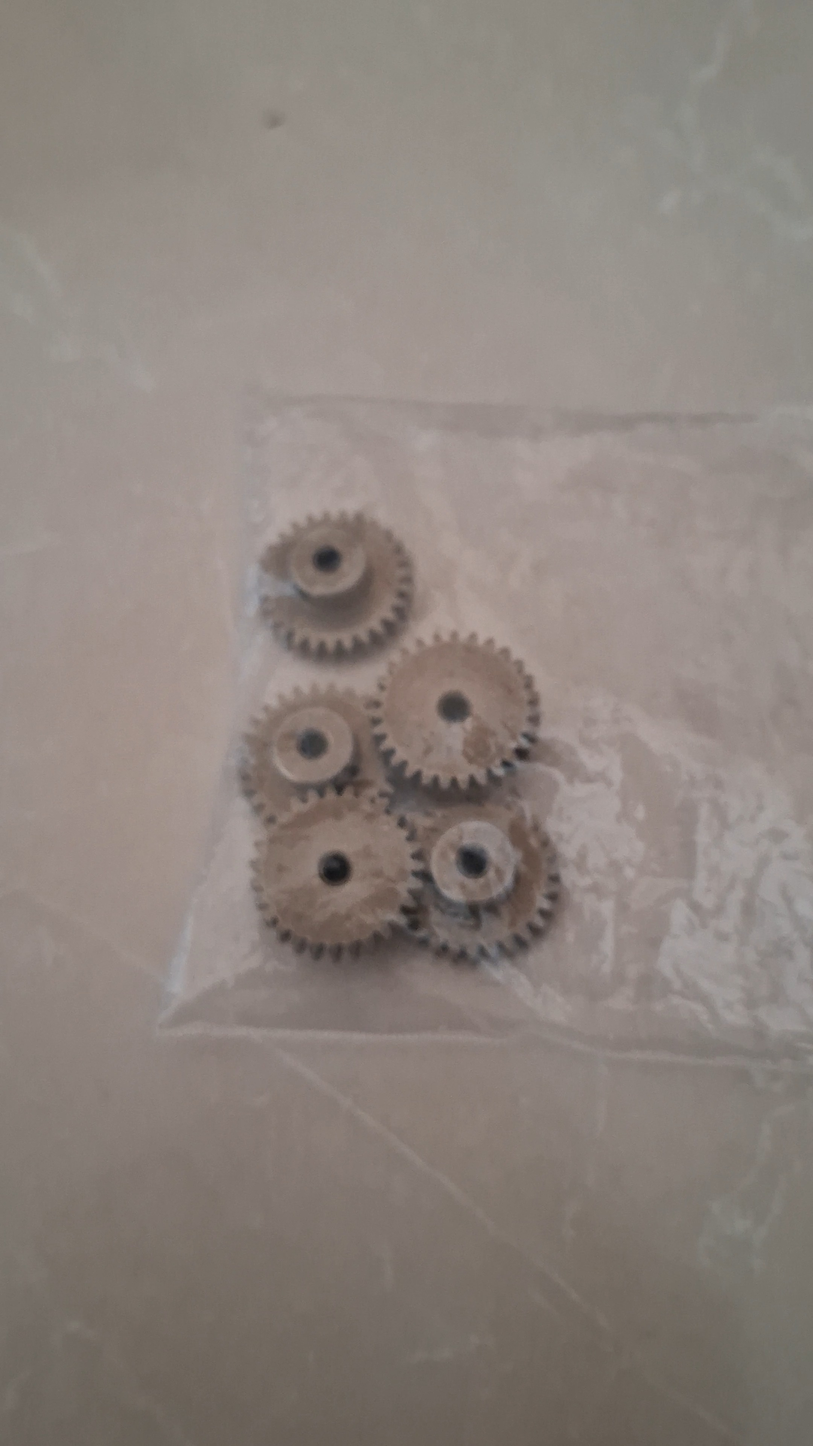spur gear: (253, 790, 422, 956), (370, 634, 539, 790), (409, 803, 559, 960), (260, 514, 412, 658), (239, 687, 384, 822)
